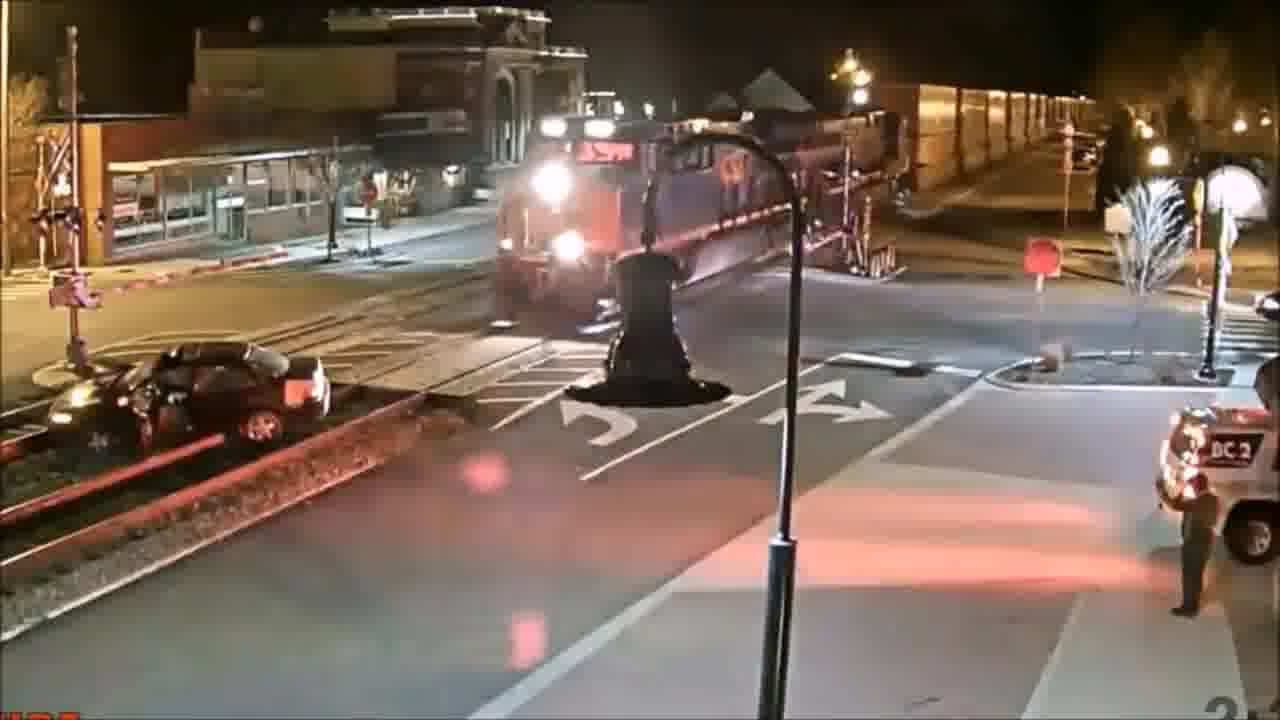crossing railway track: (42, 325, 343, 489)
